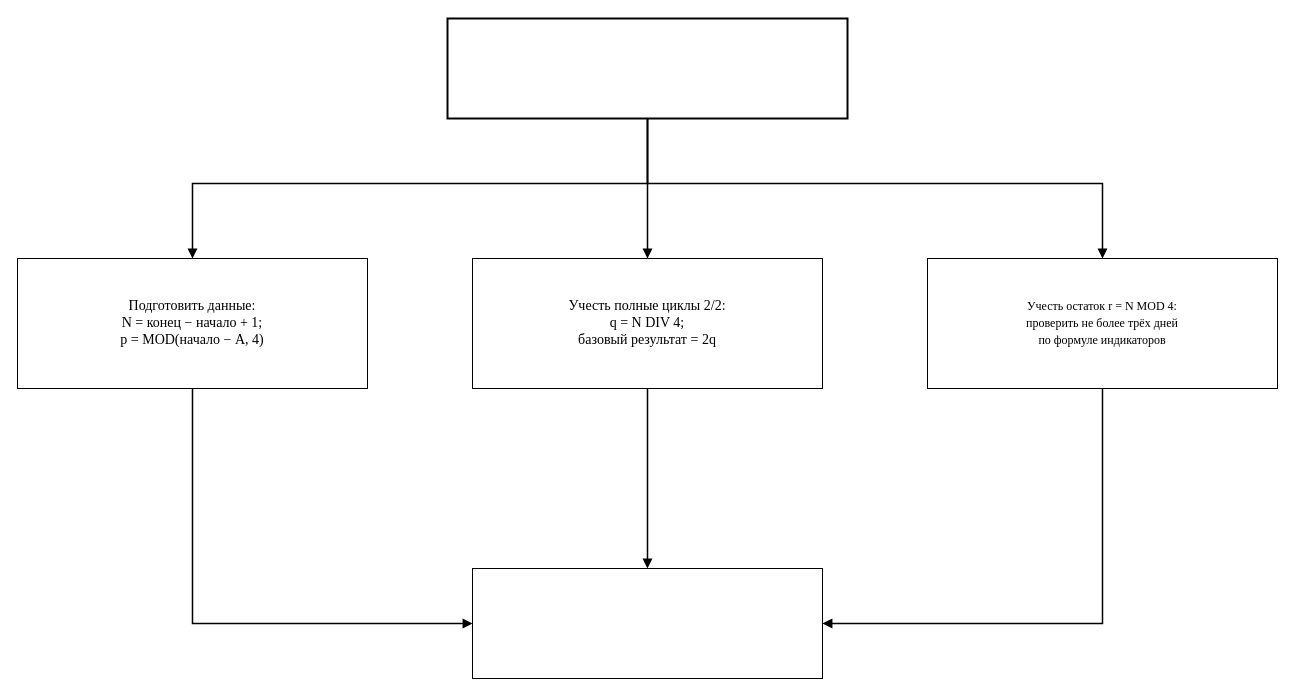
The diagram is 1295 pixels wide and 696 high, and some of its shapes have lost their labels. The shapes that lost their labels are listed below. From the top down, each one's centre as x and y in pixels, then its label:
At point (647, 68): "Рассчитать число рабочих дней в периоде".
At point (647, 623): "Сложить базовый результат и рабочие дни остатка; вывести ответ".
